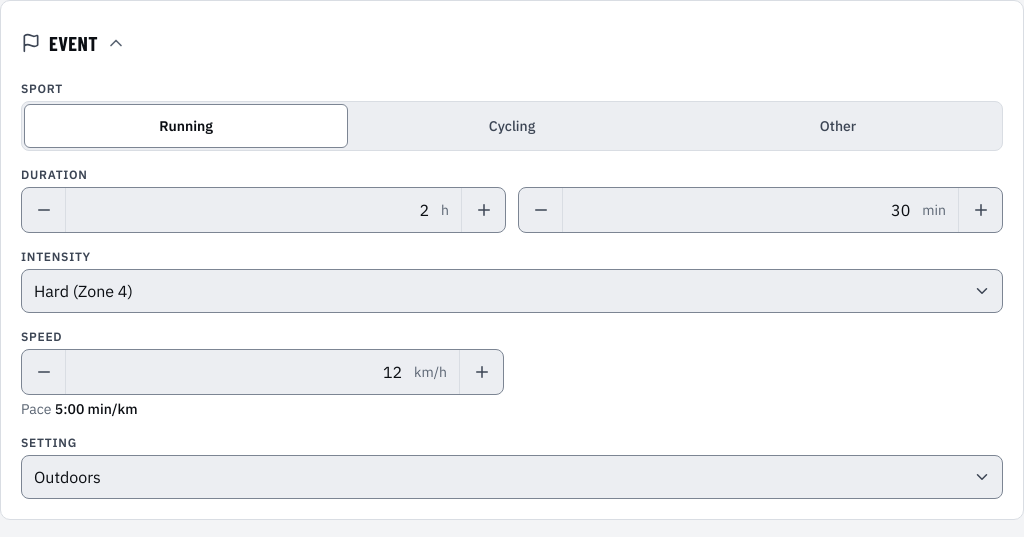
Scenario: EventSection: layout › collapses to a one-line summary and opens again, keeping the inputs
The width and height of the screenshot is (1024, 537).
Check: the text "2 h 30 min · Running · Hard" is not shown
Click the button "Event". click: coordinates (73, 43)
box: [17,21,130,65]
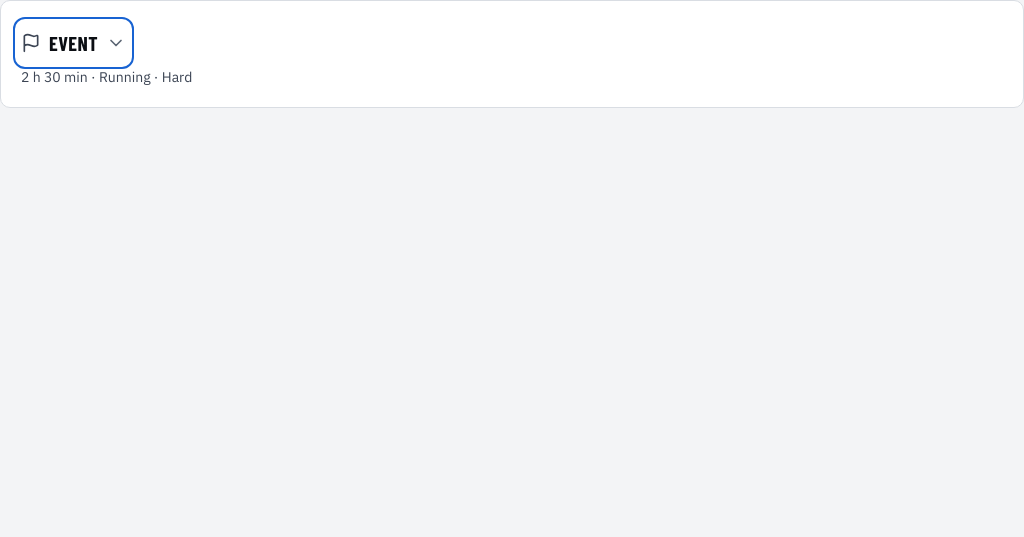
Check: the number field labelled "Hours" is not shown
Check: the button "Event" is collapsed, box [17,21,130,65]
Check: the text "2 h 30 min · Running · Hard" is shown, box [21,68,192,86]
Press Enter
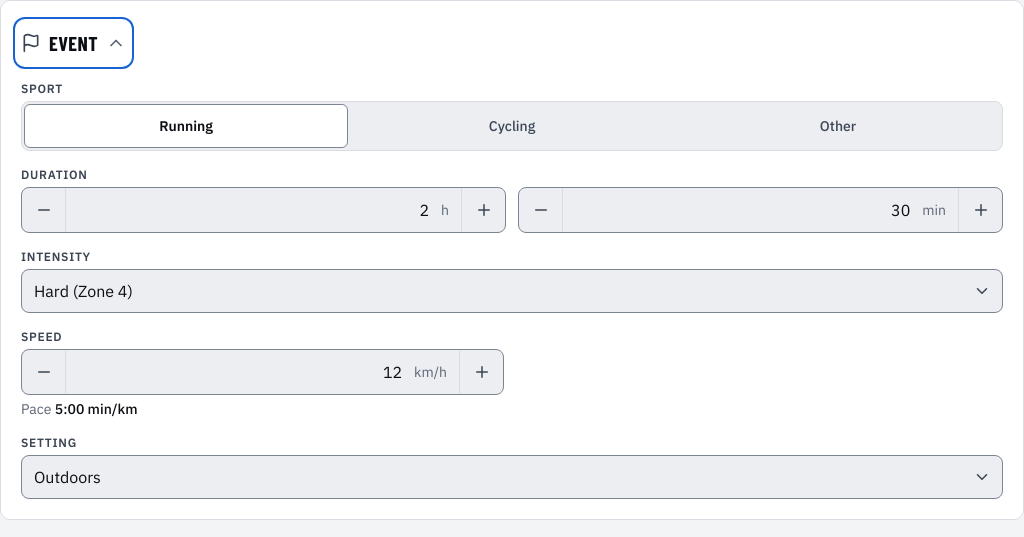
Check: the button "Event" is expanded, box [17,21,130,65]
Check: the 1st number field named "Hours" holds "2", box [66,188,441,232]
Check: the 2nd number field named "Minutes" holds "30", box [563,188,922,232]
